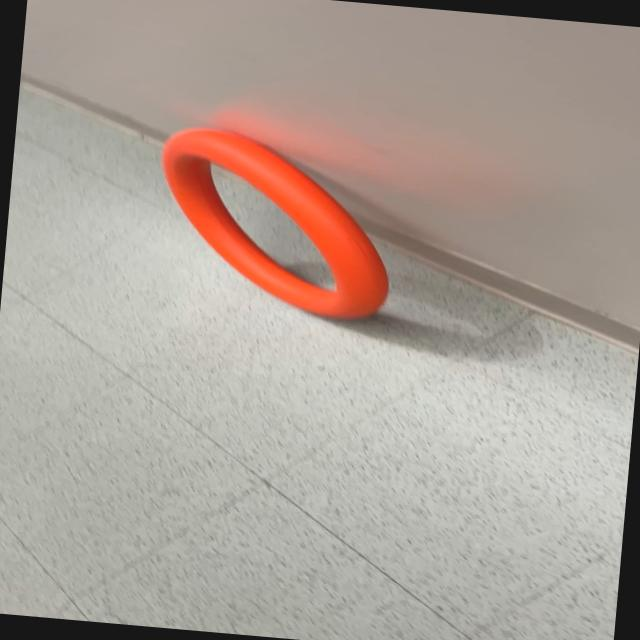note: (146, 121, 404, 325)
